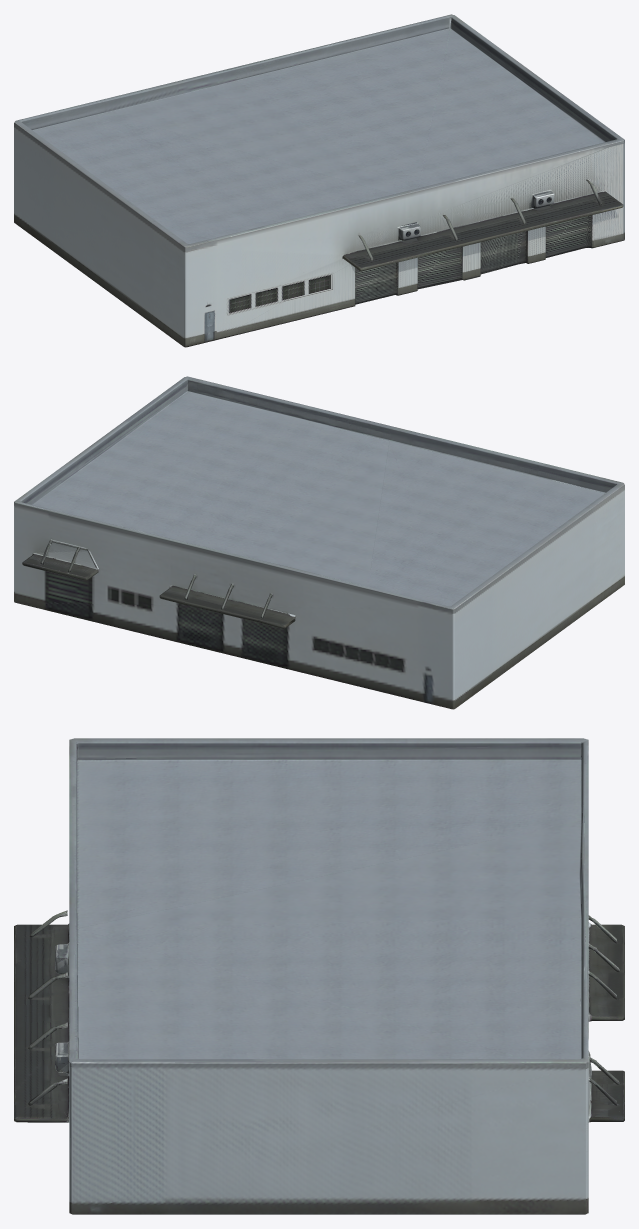
The model's file is Industrial_Warehouse__0621060013_texture.glb.
3 renders of one model, top to bottom at view 1: azimuth 30°, elevation 25°; view 2: azimuth 150°, elevation 25°; view 3: azimuth 270°, elevation 25°, orthographic. The views are drawn at different scales.
Parts seen in each view (by area): view 1: Mesh_0.001; view 2: Mesh_0.001; view 3: Mesh_0.001.
Part boxes in pixels (box(x1,y1,x2,y2)): Mesh_0.001: box(14, 14, 624, 347); Mesh_0.001: box(14, 376, 624, 709); Mesh_0.001: box(14, 738, 624, 1214).
Size of the model in its own units: 30.52 by 6.71 by 24.25.
Materials: 1 (1 with a texture image).
